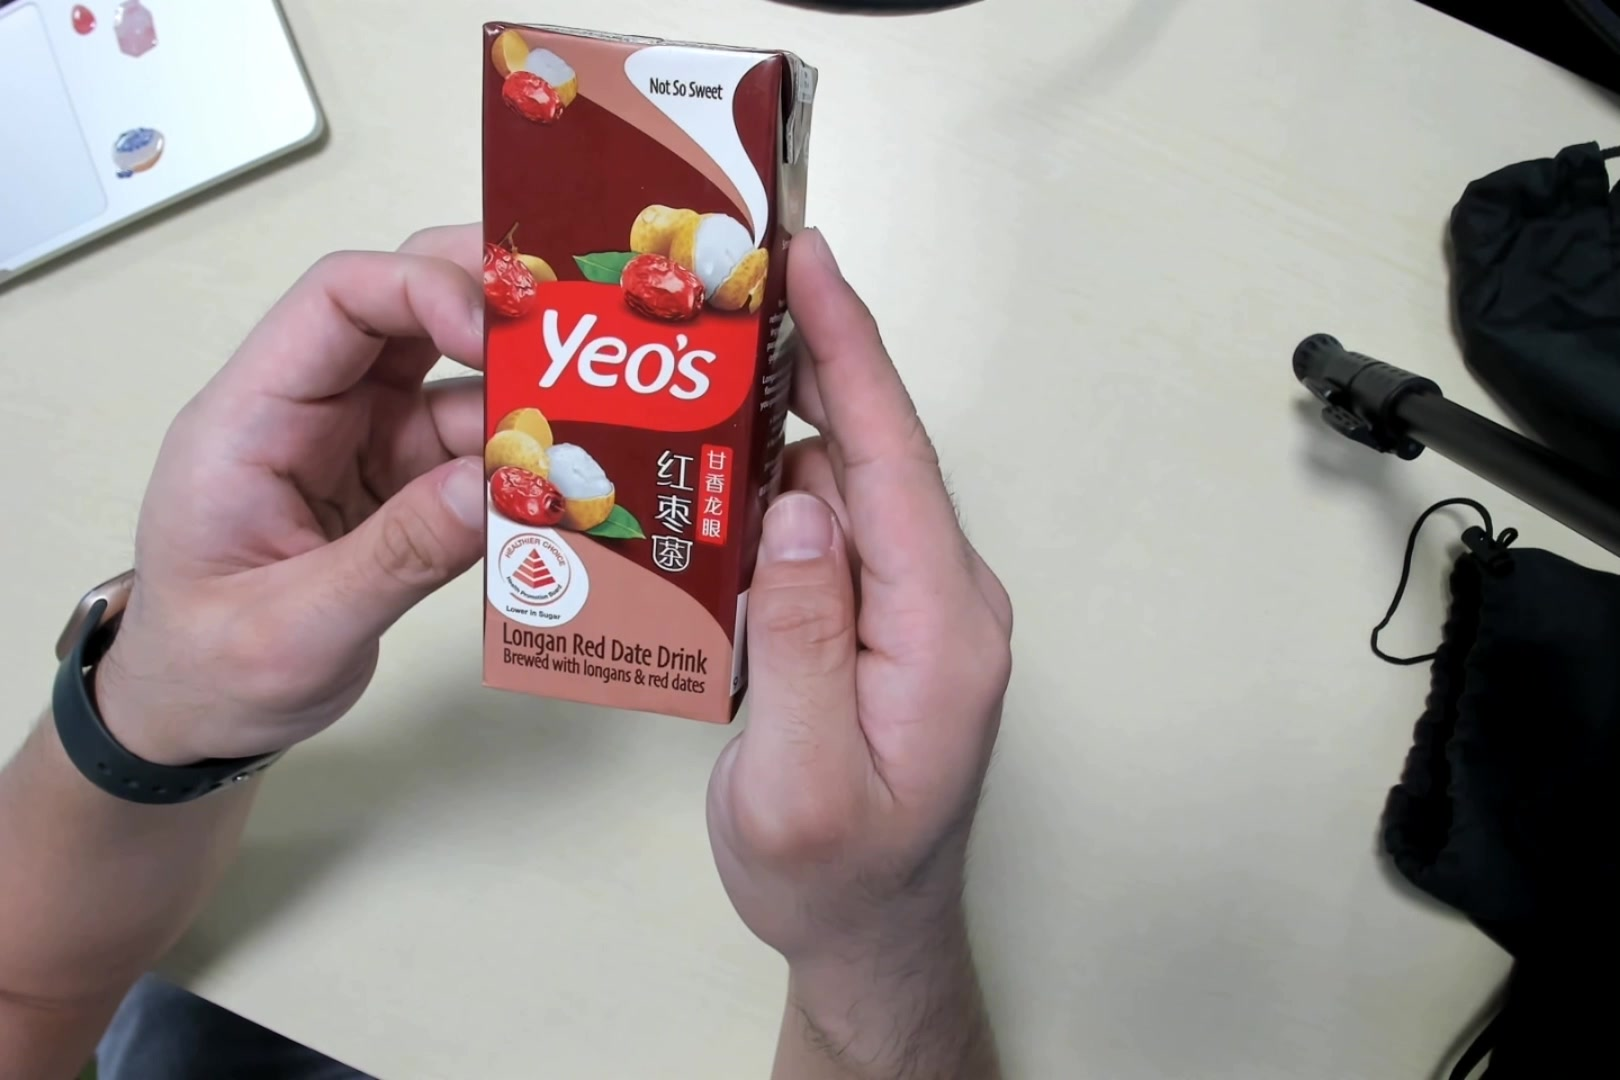TeaDrink_200-299g_Halal_Healthy: (466, 17, 829, 730)
